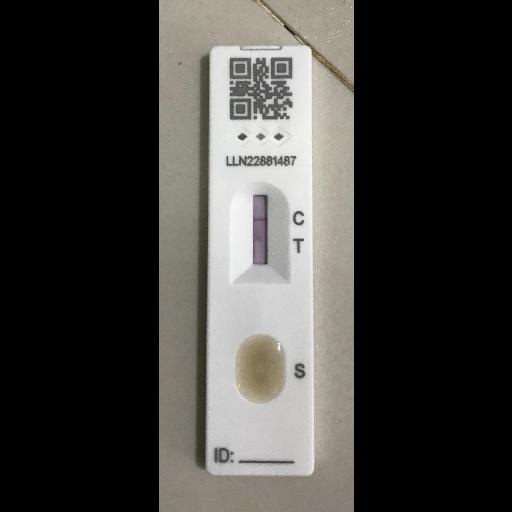Neg: (206, 47, 312, 475)
